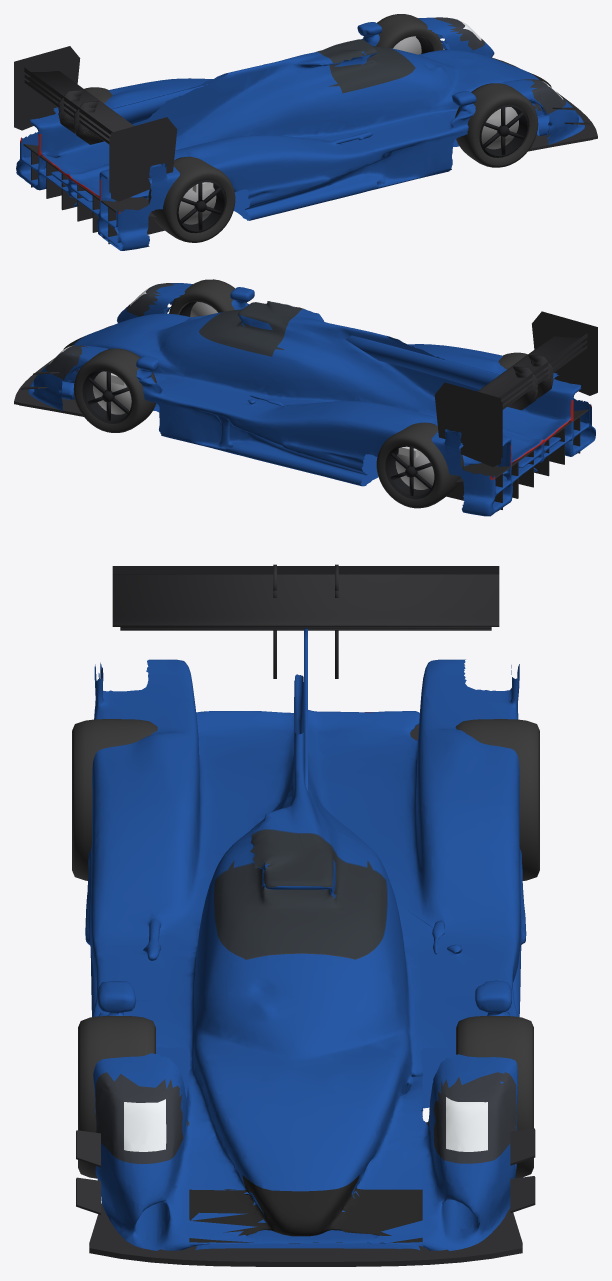
The model's file is oreca_07_gibson.glb.
The picture shows the model from 3 angles, top to bottom: view 1: azimuth 30°, elevation 25°; view 2: azimuth 150°, elevation 25°; view 3: azimuth 270°, elevation 25°; orthographic projection. The views are drawn at different scales.
Visible parts, largest first — view 1: body, wing_rear_up3, bumper_rear, wheel_fr_spin, wheel_rr_spin, bumper_front, cabin, wing_rear_up2, wing_rear, diffuser, wheel_fl_spin, fin (+2 smaller); view 2: body, bumper_rear, wing_rear_up3, wheel_fl_spin, wheel_rl_spin, bumper_front, cabin, wing_rear_up2, fin, diffuser, wheel_fr_spin, wing_rear (+2 smaller); view 3: body, bumper_front, wing_rear_up3, cabin, bumper_rear, splitter_up, wheel_rr_spin, wheel_fr_spin, wheel_rl_spin, wheel_fl_spin, canards, splitter (+1 smaller).
Part boxes in pixels (x1,y1,x2,y2): body: (57,17,543,220); wing_rear_up3: (14,46,177,201); bumper_rear: (16,107,164,250); wheel_fr_spin: (455,83,538,167); wheel_rr_spin: (148,156,235,242); bumper_front: (437,17,584,144); cabin: (316,39,415,92); wing_rear_up2: (16,54,110,192); wing_rear: (16,61,110,187); diffuser: (23,144,164,244); wheel_fl_spin: (376,14,443,54); fin: (111,84,207,123); body: (68,283,554,486); bumper_rear: (445,373,595,516); wing_rear_up3: (434,311,597,466); wheel_fl_spin: (73,348,156,432); wheel_rl_spin: (376,422,463,508); bumper_front: (28,283,173,411); cabin: (199,301,303,356); wing_rear_up2: (501,320,595,458); fin: (345,335,500,389); diffuser: (432,409,588,509); wheel_fr_spin: (169,279,246,317); wing_rear: (501,334,595,453); body: (85,672,526,1145); bumper_front: (95,1077,516,1250); wing_rear_up3: (112,564,499,678); cabin: (213,829,387,958); bumper_rear: (94,659,519,759); splitter_up: (89,1210,522,1266); wheel_rr_spin: (72,719,157,880); wheel_fr_spin: (78,1016,155,1178); wheel_rl_spin: (455,719,539,880); wheel_fl_spin: (456,1016,533,1178); canards: (76,1128,535,1214); splitter: (89,1203,522,1256).
Bounding box in the file's own units: 4.9 × 1.2 × 2.
